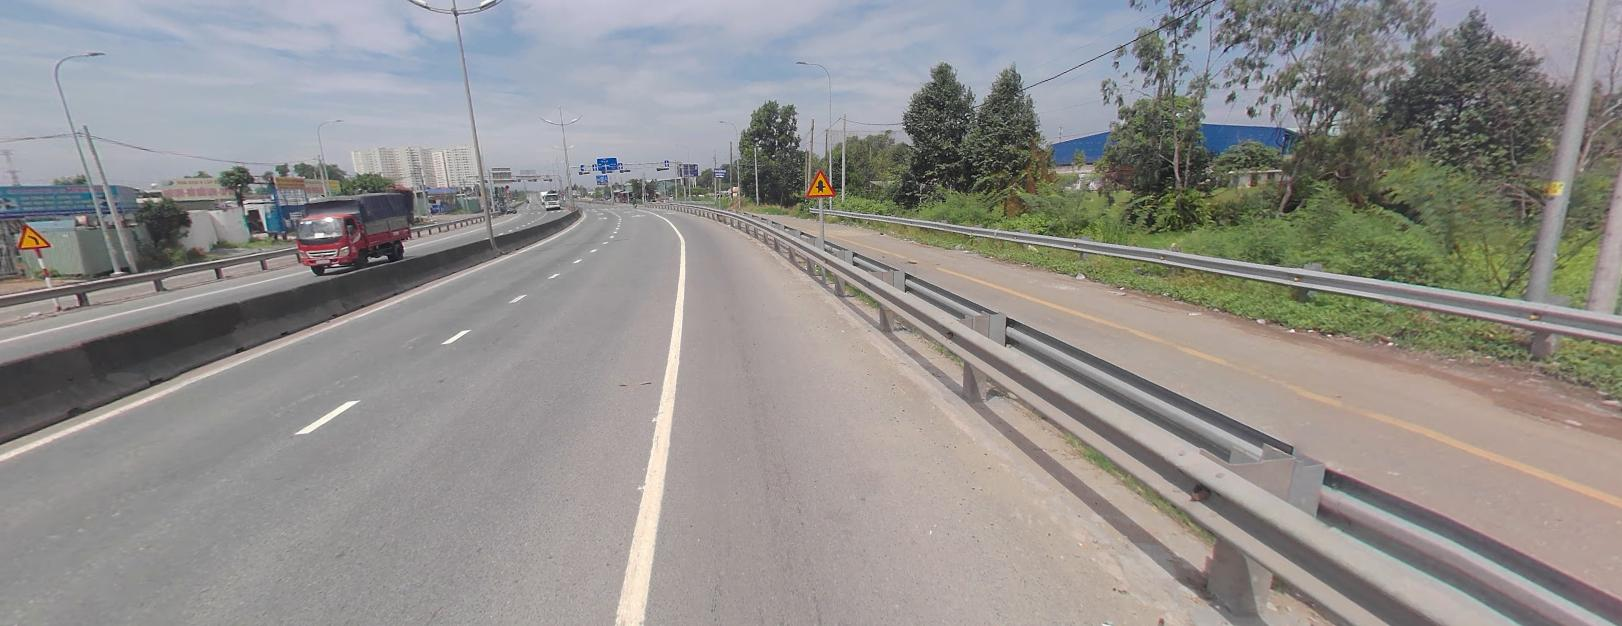Nguy hiem: (804, 167, 836, 196), (16, 222, 50, 246)
